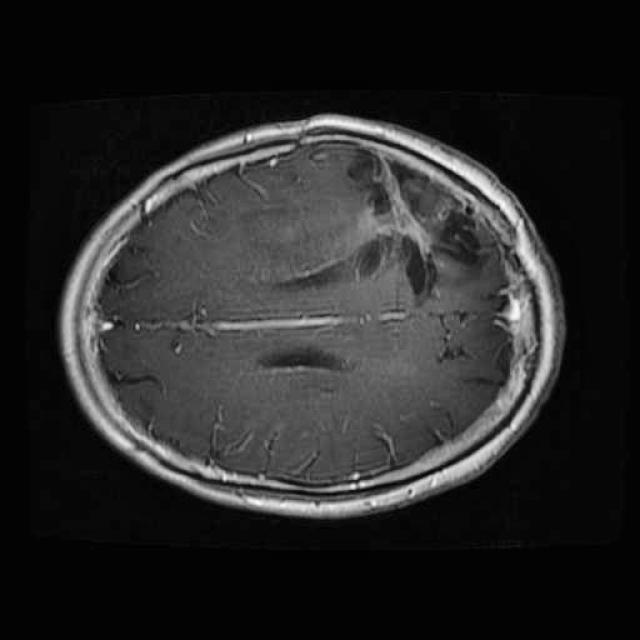Non-Tumor: (314, 128, 509, 320)
